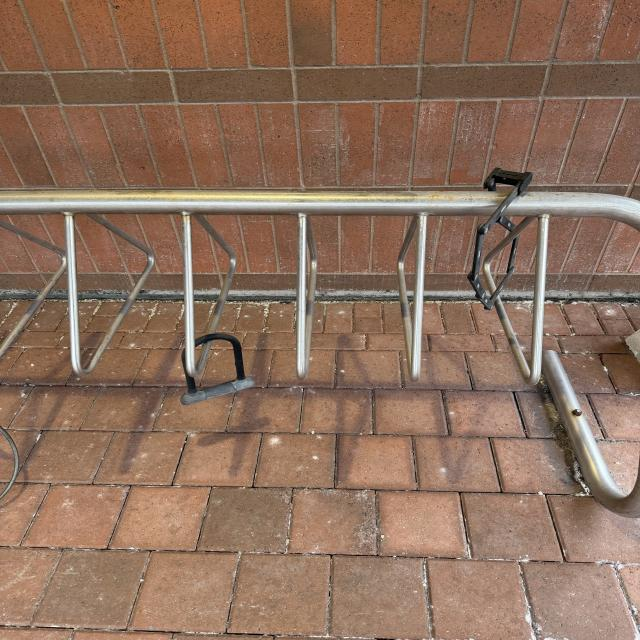Bicycle Rack: (1, 172, 640, 517)
